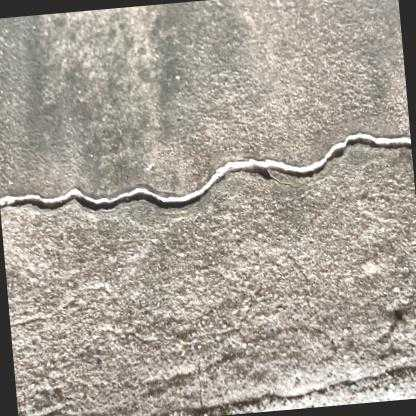crack: (0, 126, 412, 217)
